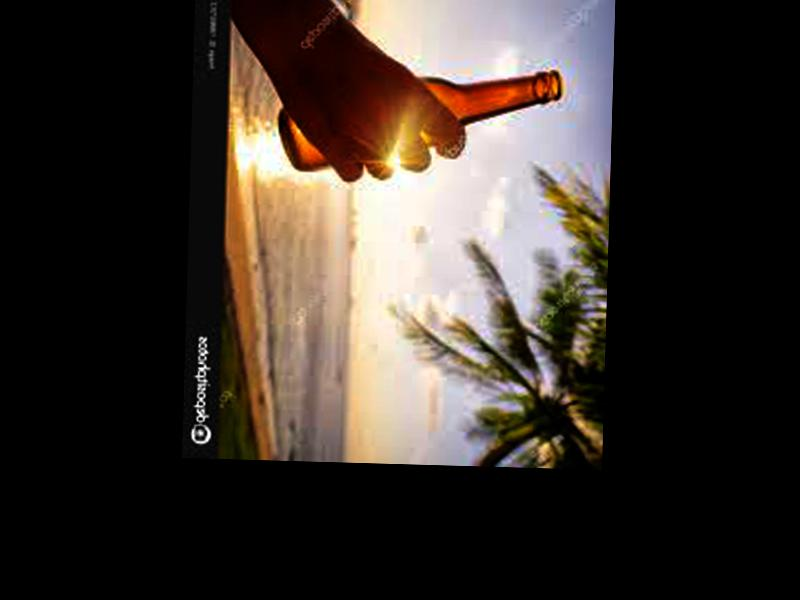Beer: (277, 62, 562, 178)
